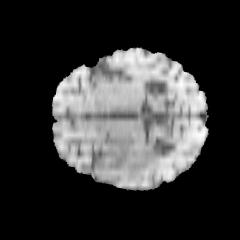glioma: (94, 134, 161, 183)
